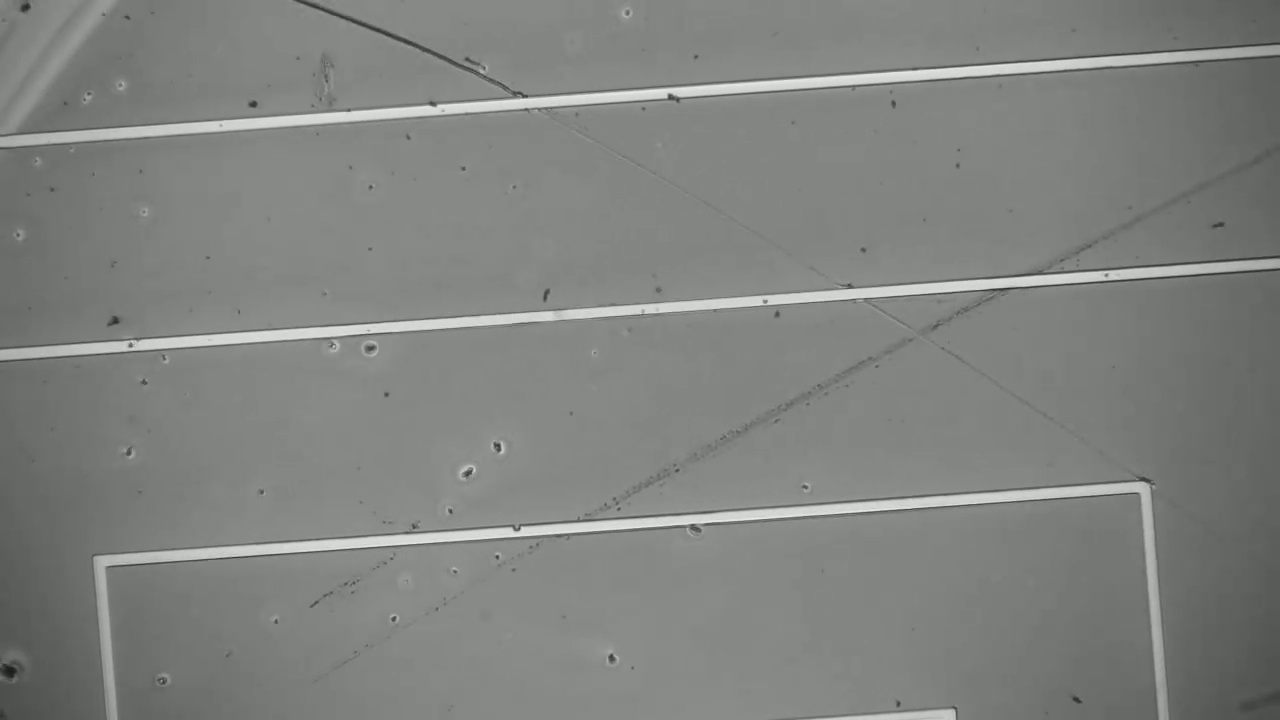edge_bite: (505, 518, 532, 542)
scratch: (312, 156, 1275, 687), (527, 109, 1144, 477), (293, 0, 517, 98)
stains_enbedded: (658, 81, 696, 110)
